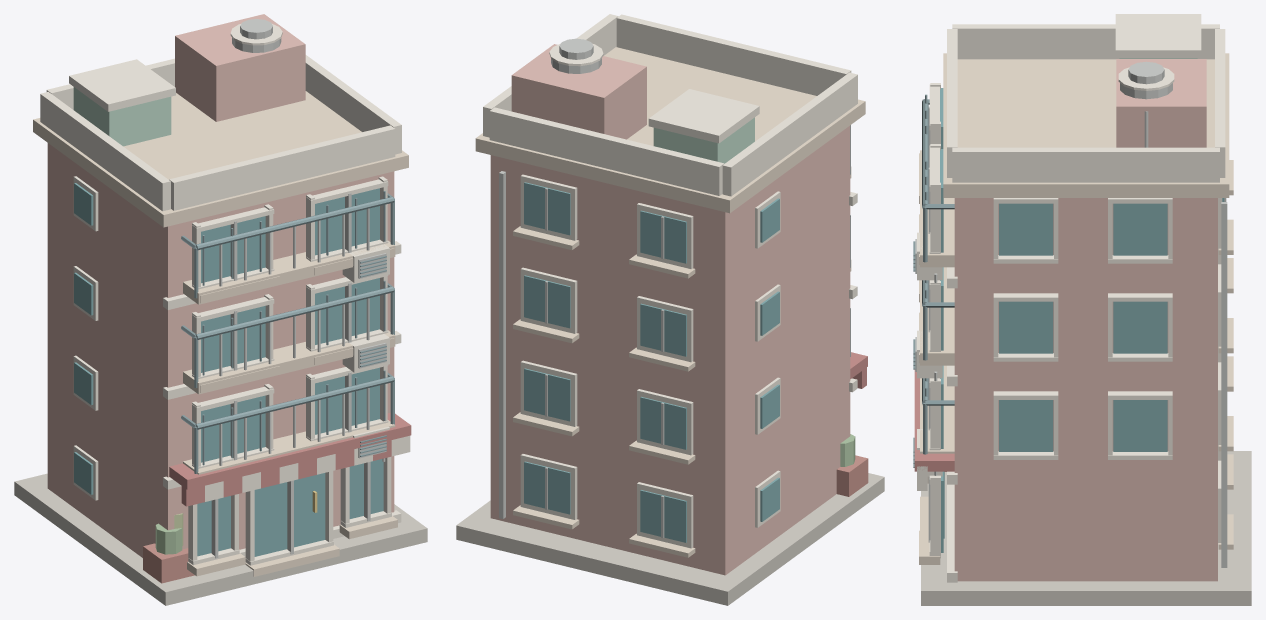
Rendered from town-tiantou-2.glb.
The picture shows the model from 3 angles, left to right: view 1: azimuth 30°, elevation 25°; view 2: azimuth 150°, elevation 25°; view 3: azimuth 270°, elevation 25°; orthographic projection. The views are drawn at different scales.
Visible parts, largest first — view 1: paving; view 2: paving; view 3: paving.
Boxes of the visible parts, x1,y1,x2,y2 form: paving: (14,14,427,605); paving: (456,14,884,605); paving: (913,14,1251,605).
Size of the model in its own units: 2.2 by 3.67 by 2.25.
Materials: 1 (1 with a texture image).
